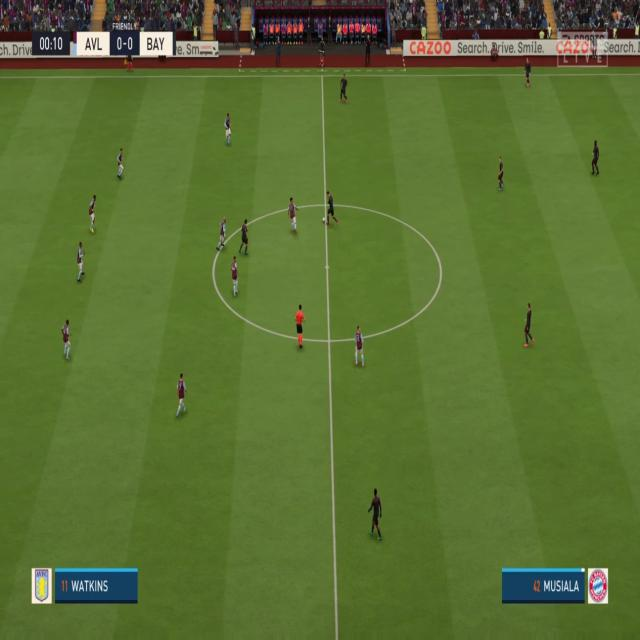Ball: (322, 218, 326, 223)
Referee: (294, 304, 305, 349)
Team-A: (368, 487, 382, 541), (524, 303, 534, 348), (326, 190, 338, 227), (238, 219, 250, 255), (591, 140, 600, 176), (339, 74, 349, 103), (498, 156, 505, 192), (523, 57, 531, 88)
Team-H: (176, 373, 188, 421), (287, 197, 299, 236), (216, 216, 229, 252), (354, 326, 365, 367), (61, 320, 72, 360), (76, 241, 86, 283), (230, 256, 240, 298), (87, 195, 97, 235), (224, 112, 232, 146), (117, 148, 124, 182)
